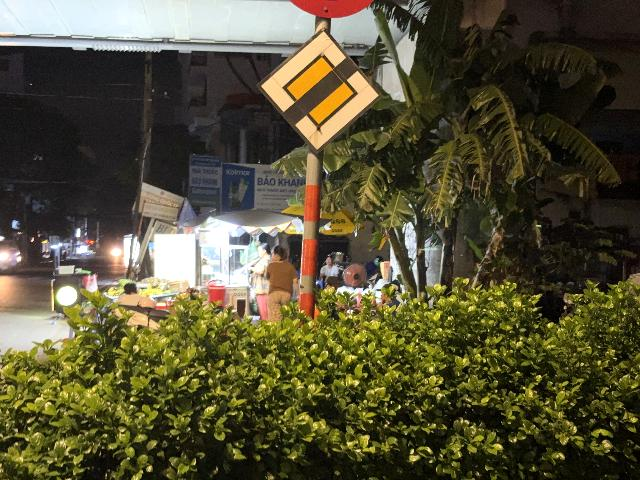het-duong-uu-tien: (257, 27, 383, 156)
